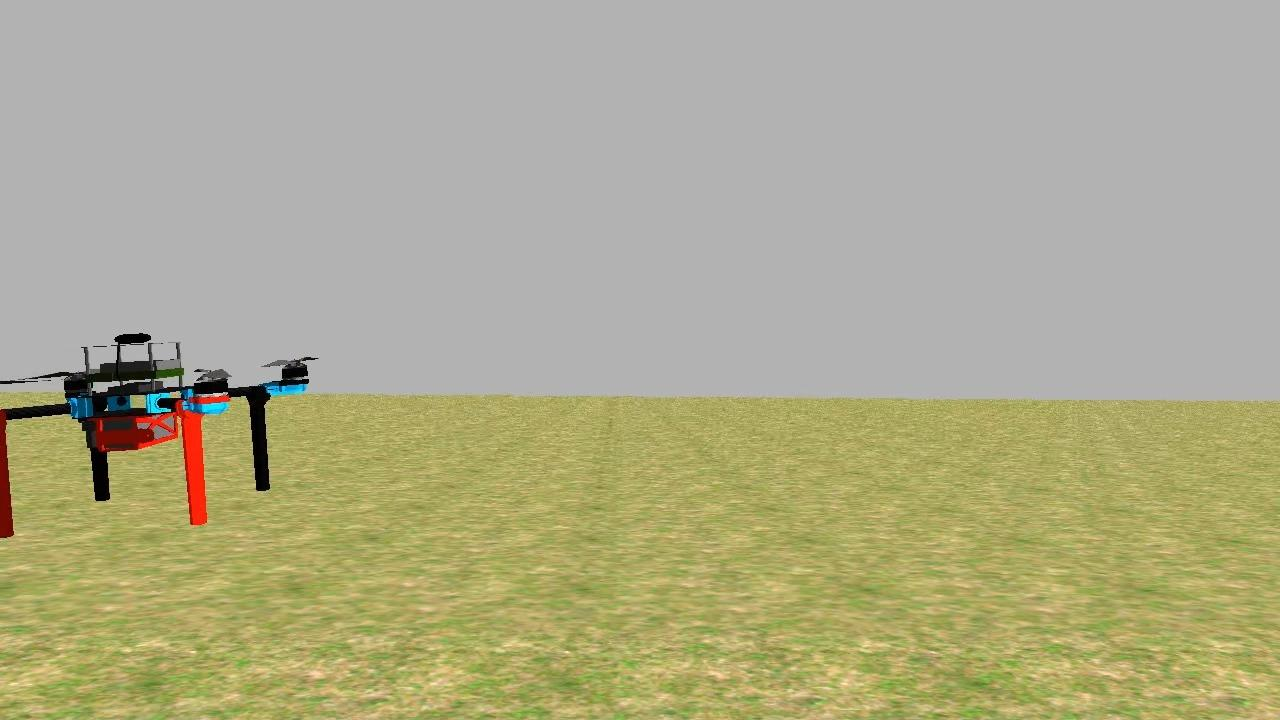UAV: (0, 296, 324, 551)
